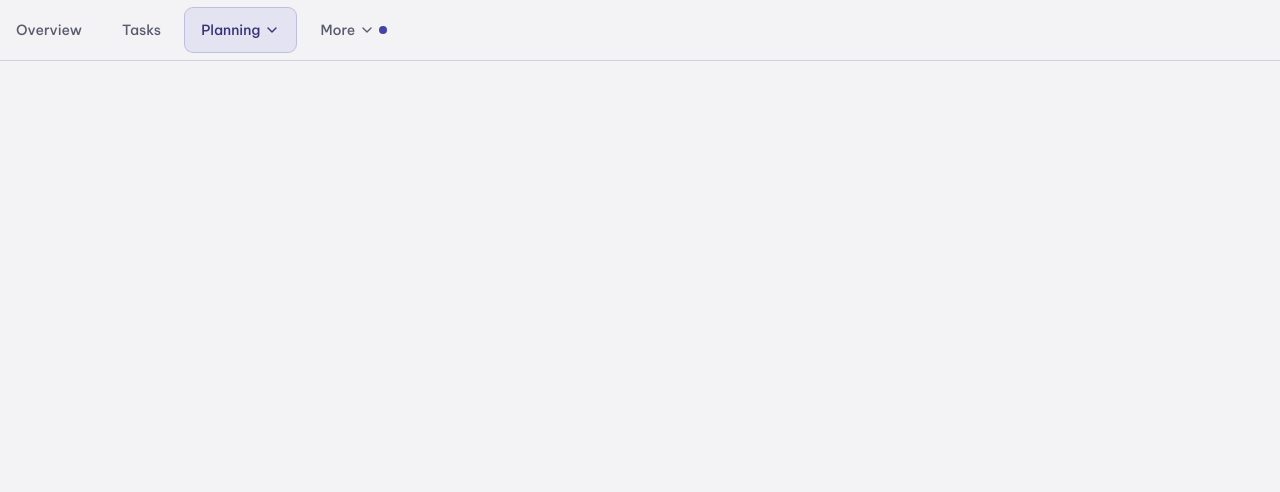
Test: ProjectNavigation › keeps all thirteen existing destinations within two actions
Click the heading "Planning": (241, 30) [185,8,296,52]
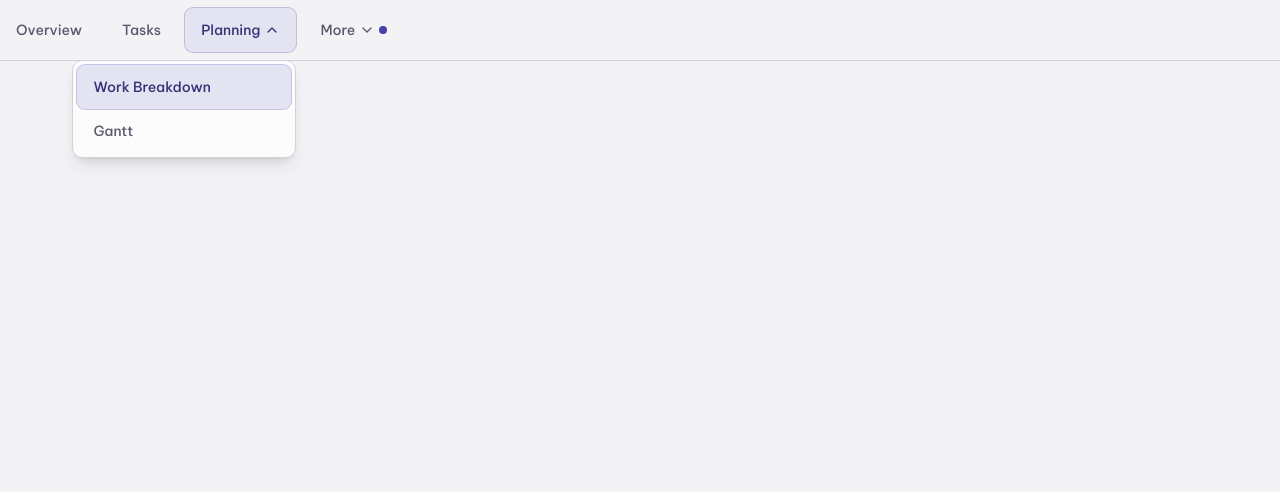
Click the text "More": (338, 30) [320,20,355,40]
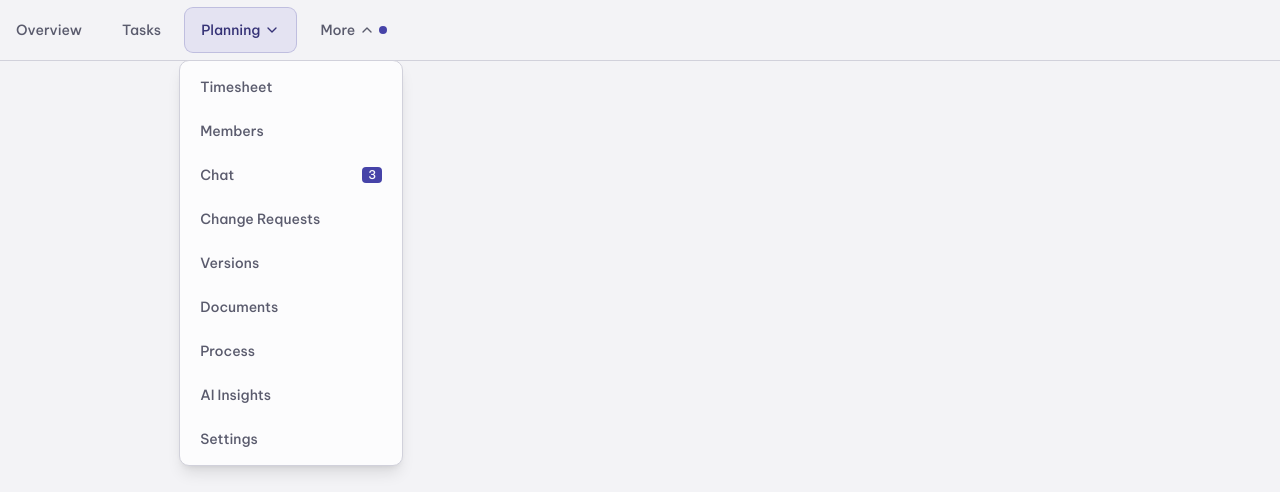
Expected: the link "Chat 3" is shown, [200,166,382,184]
